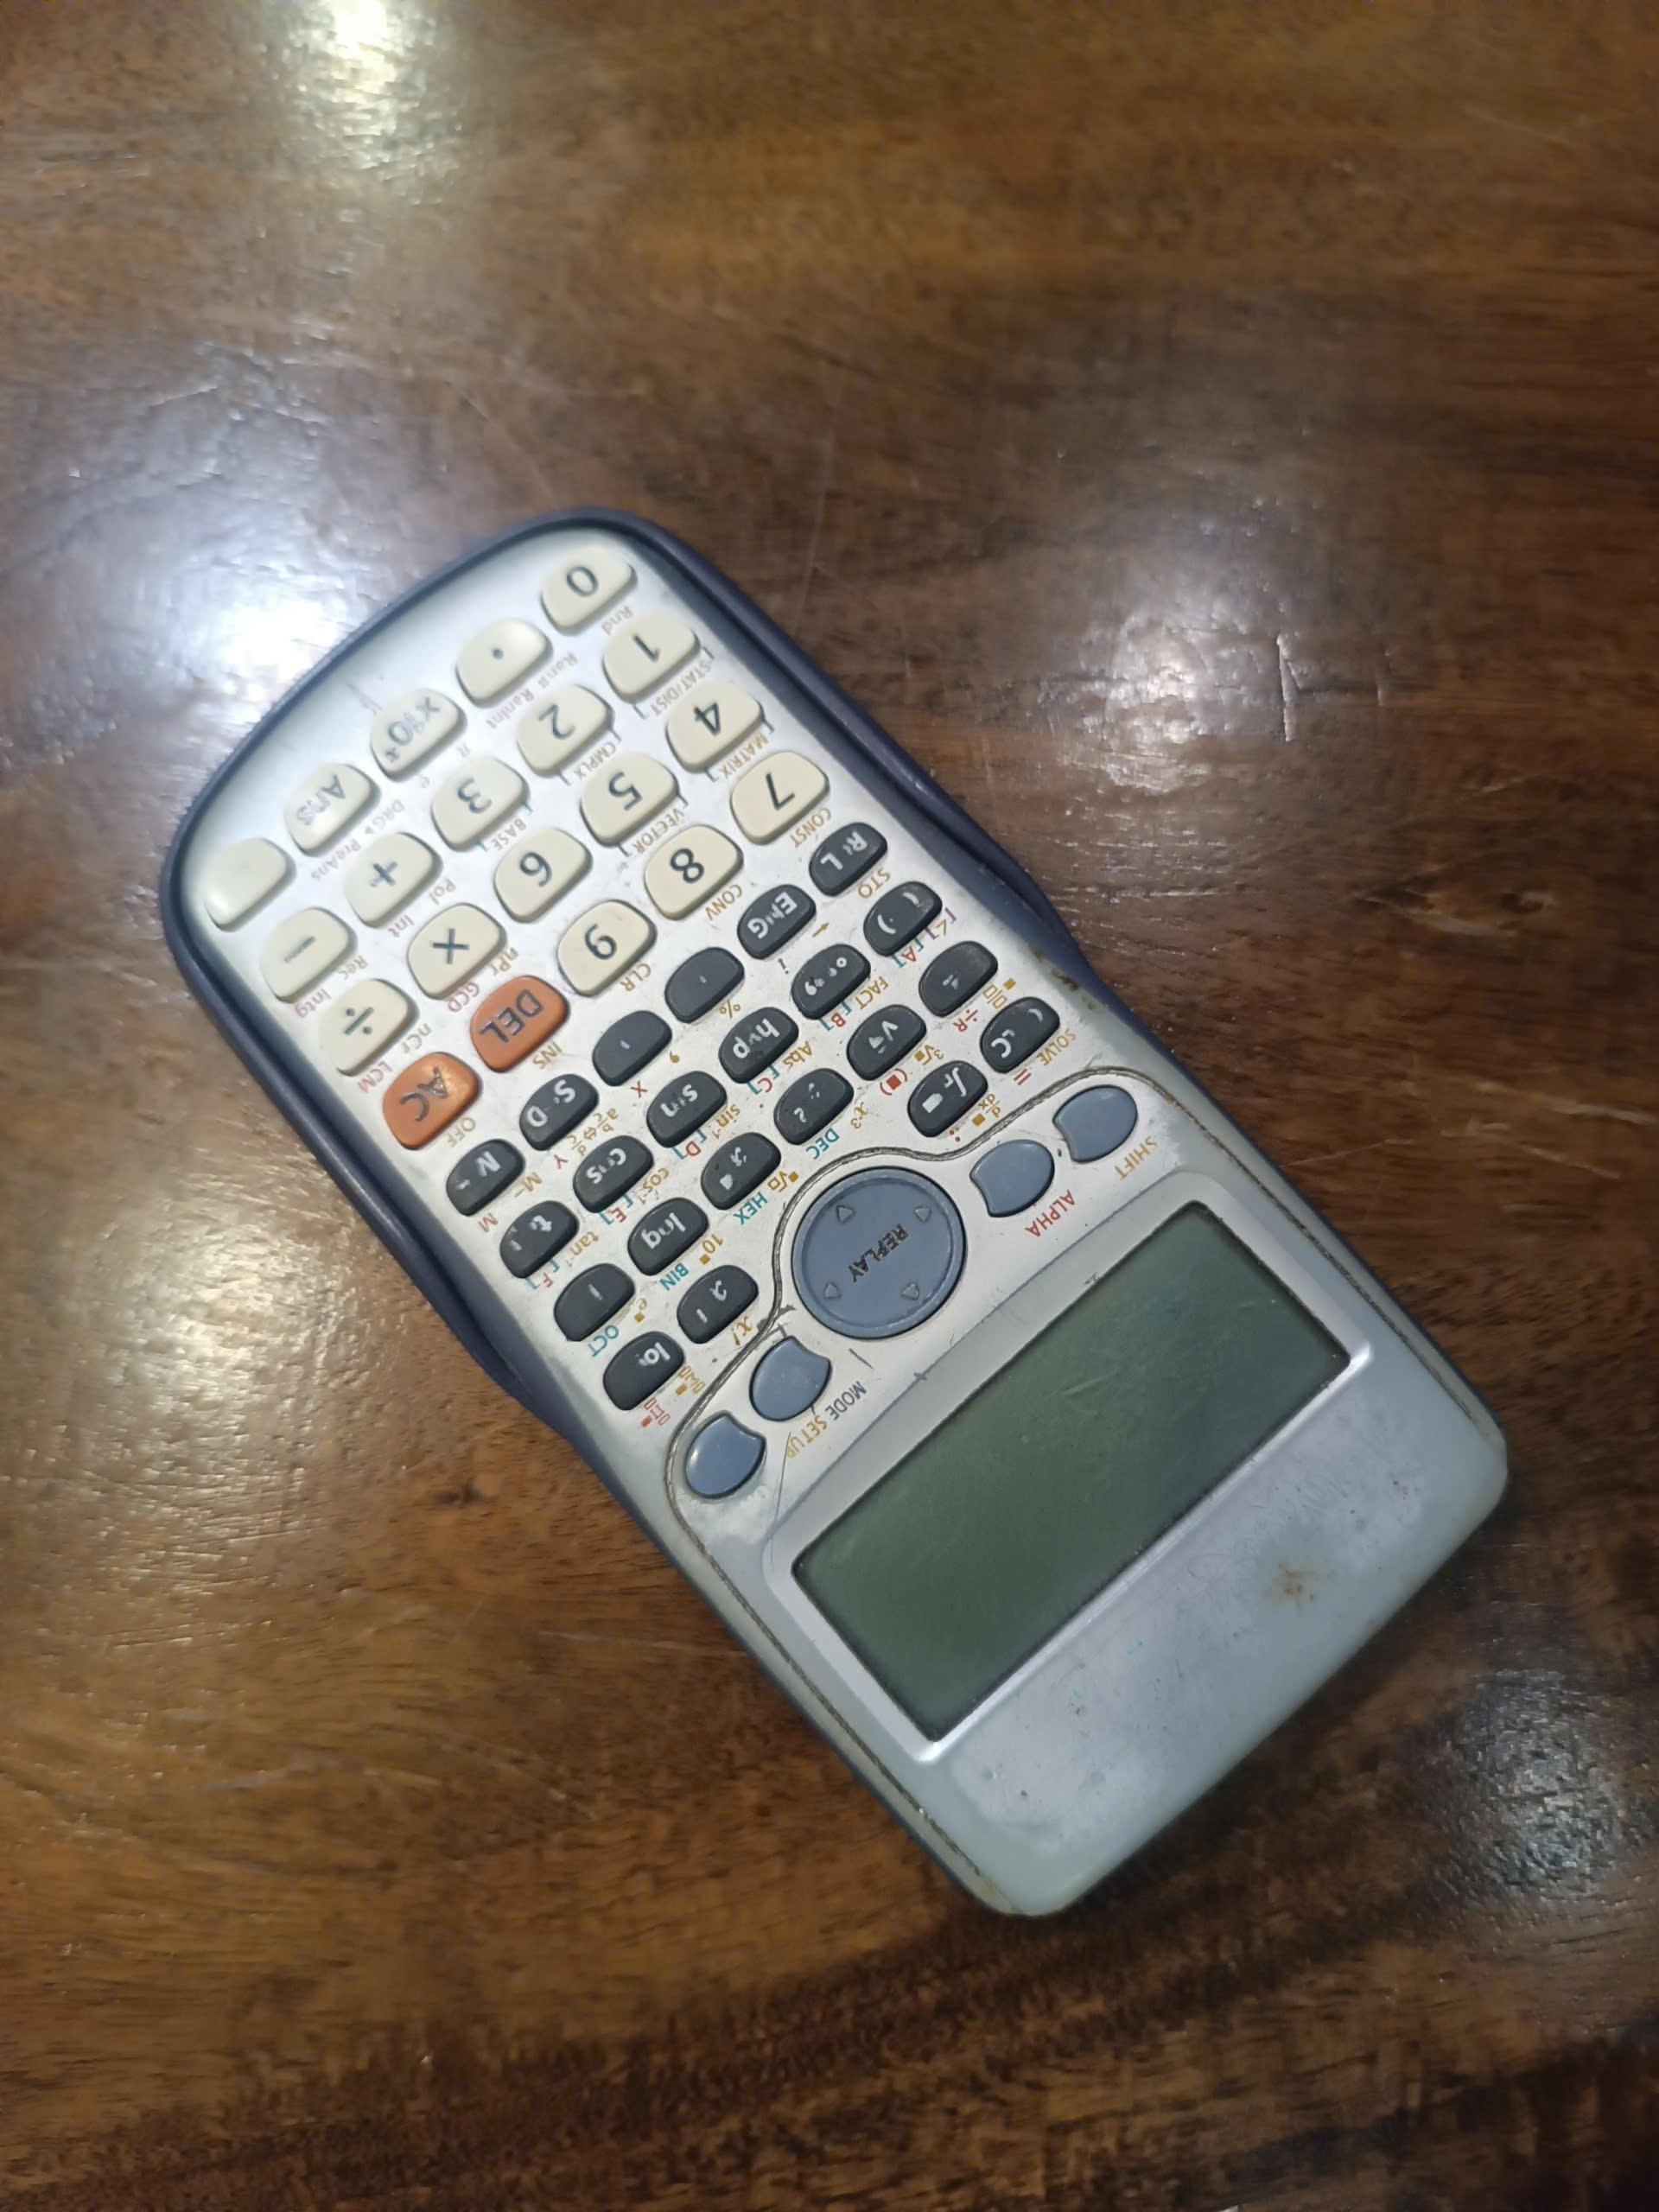Con lai: (155, 510, 1511, 1926)
